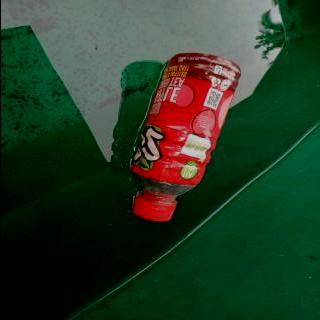bottle: (128, 52, 243, 225)
